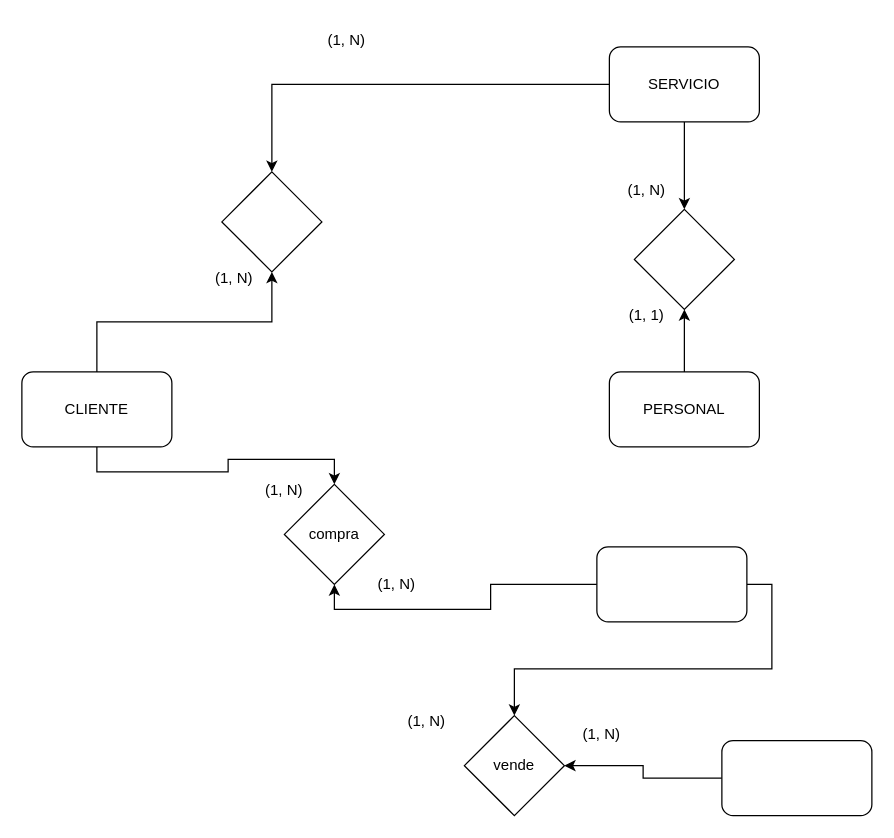
The diagram is 894 pixels wide and 838 high, and some of its shapes have lost their labels. The centre of each missing label's shape, as x and y in pixels:
paga: point (271, 221)
PRODUCTO: point (671, 584)
PROVEEDOR: point (796, 777)
